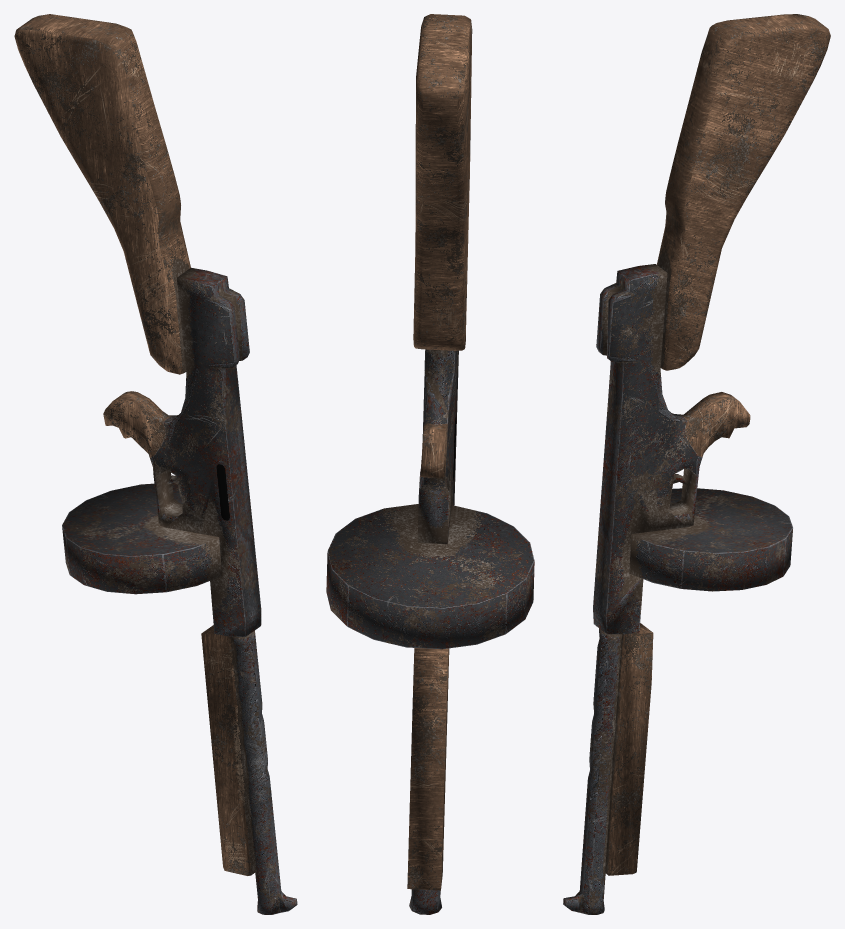
The model's file is Anim_disparar_ametralladora_objetos.0040.obj.
3 renders of one model, left to right at view 1: azimuth 30°, elevation 25°; view 2: azimuth 150°, elevation 25°; view 3: azimuth 270°, elevation 25°, orthographic. The views are drawn at different scales.
Visible parts, largest first — view 1: Ametralladora1; view 2: Ametralladora1; view 3: Ametralladora1.
Boxes of the visible parts, <box> form: Ametralladora1: <box>14,14,297,914</box>; Ametralladora1: <box>326,14,534,914</box>; Ametralladora1: <box>563,14,830,914</box>.
Size of the model in its own units: 1.19 by 5.94 by 1.71.
